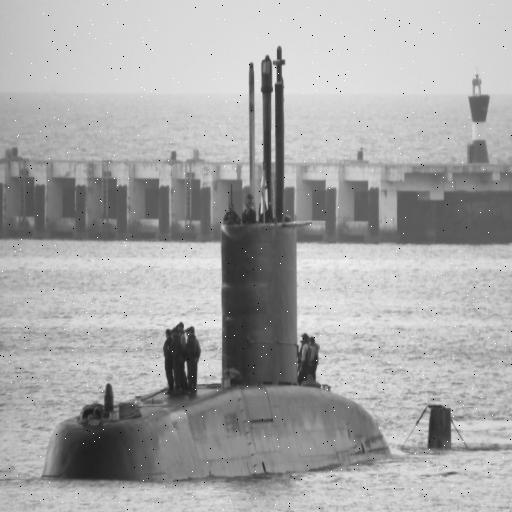submarine: (39, 37, 468, 483)
